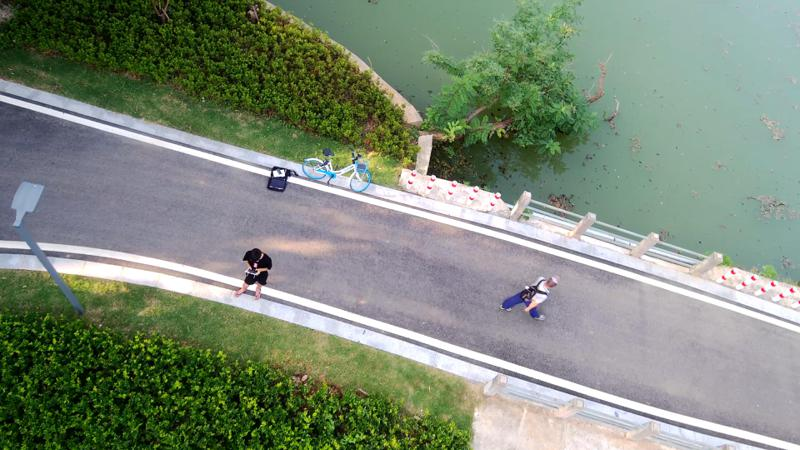passerby: (497, 272, 563, 321), (231, 245, 272, 302)
